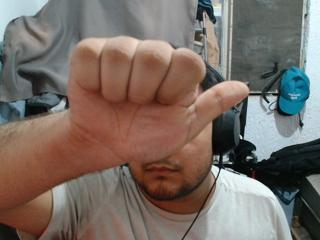Izquierda: (56, 27, 248, 164)
